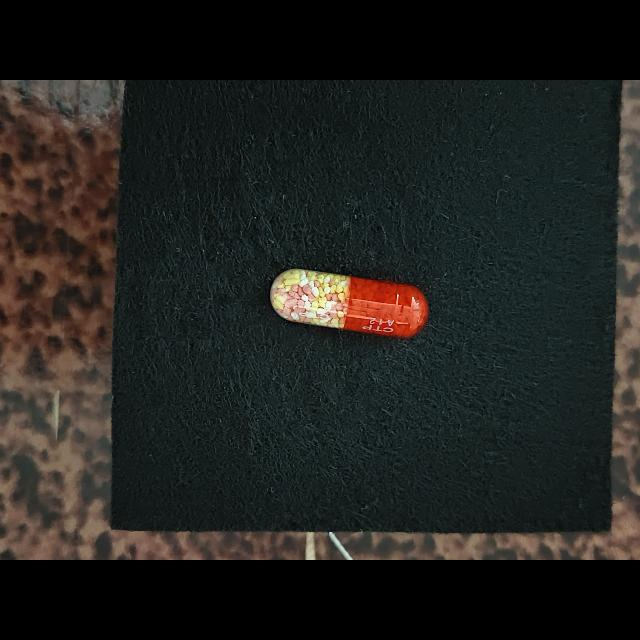Intact Capsule: (270, 269, 429, 337)
